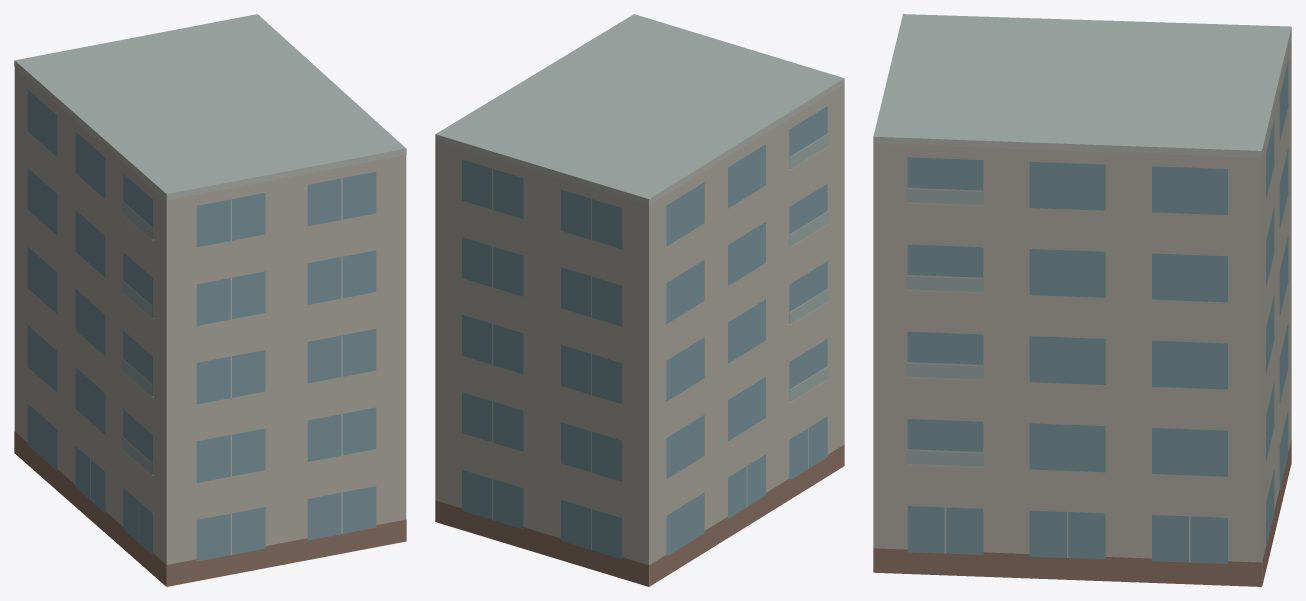
Rendered from survey-upis-32601235.glb.
The picture shows the model from 3 angles, left to right: view 1: azimuth 30°, elevation 25°; view 2: azimuth 150°, elevation 25°; view 3: azimuth 270°, elevation 25°; orthographic projection. The views are drawn at different scales.
Parts seen in each view (by area): view 1: survey-upis-32601235.tmp; view 2: survey-upis-32601235.tmp; view 3: survey-upis-32601235.tmp.
Part boxes in pixels (left/top/right/bottom): survey-upis-32601235.tmp: left=14, top=14, right=406, bottom=586; survey-upis-32601235.tmp: left=435, top=14, right=844, bottom=586; survey-upis-32601235.tmp: left=873, top=14, right=1291, bottom=586.
Bounding box in the file's own units: 10.35 × 15.35 × 13.36.
